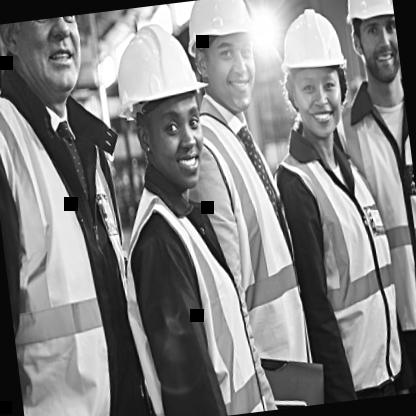helmet: (100, 2, 226, 194), (259, 0, 353, 153), (0, 12, 113, 121), (178, 0, 270, 120), (333, 0, 403, 97)
